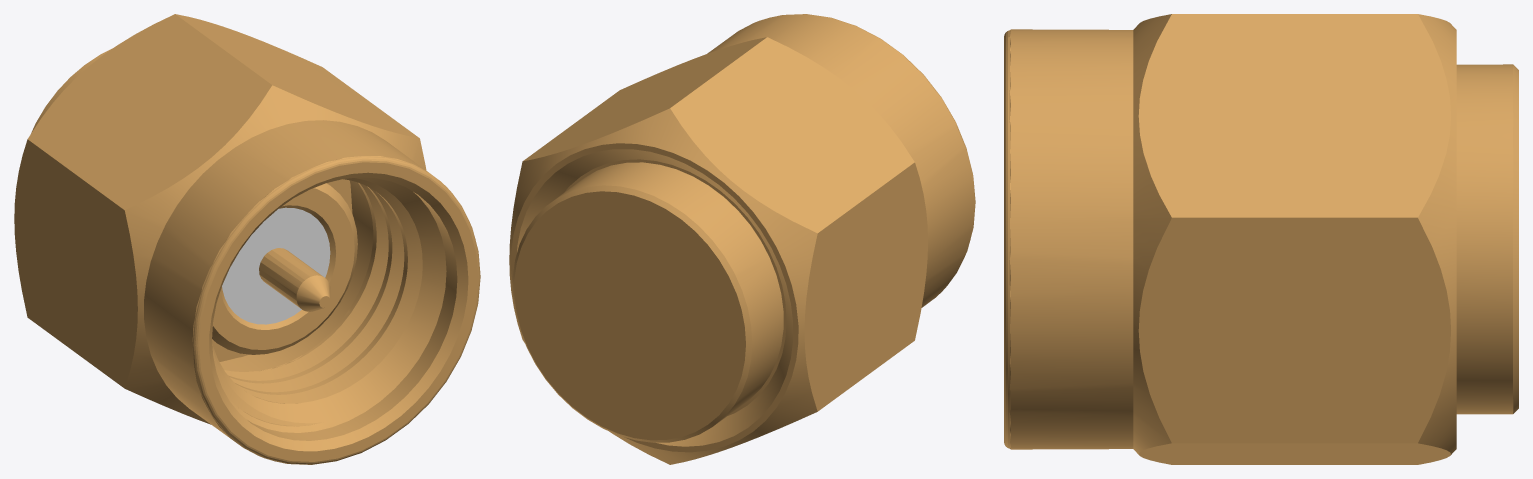
Rendered from sma_male.glb.
3 renders of one model, left to right at view 1: azimuth 30°, elevation 25°; view 2: azimuth 150°, elevation 25°; view 3: azimuth 270°, elevation 25°, orthographic. The views are drawn at different scales.
Visible parts, largest first — view 1: sma_male; view 2: sma_male; view 3: sma_male.
Part boxes in pixels (x1=…): sma_male: x1=14, y1=14, x2=480, y2=464; sma_male: x1=509, y1=14, x2=975, y2=464; sma_male: x1=1004, y1=14, x2=1518, y2=464.
Size of the model in its own units: 0.8 by 0.9238 by 0.9558.
